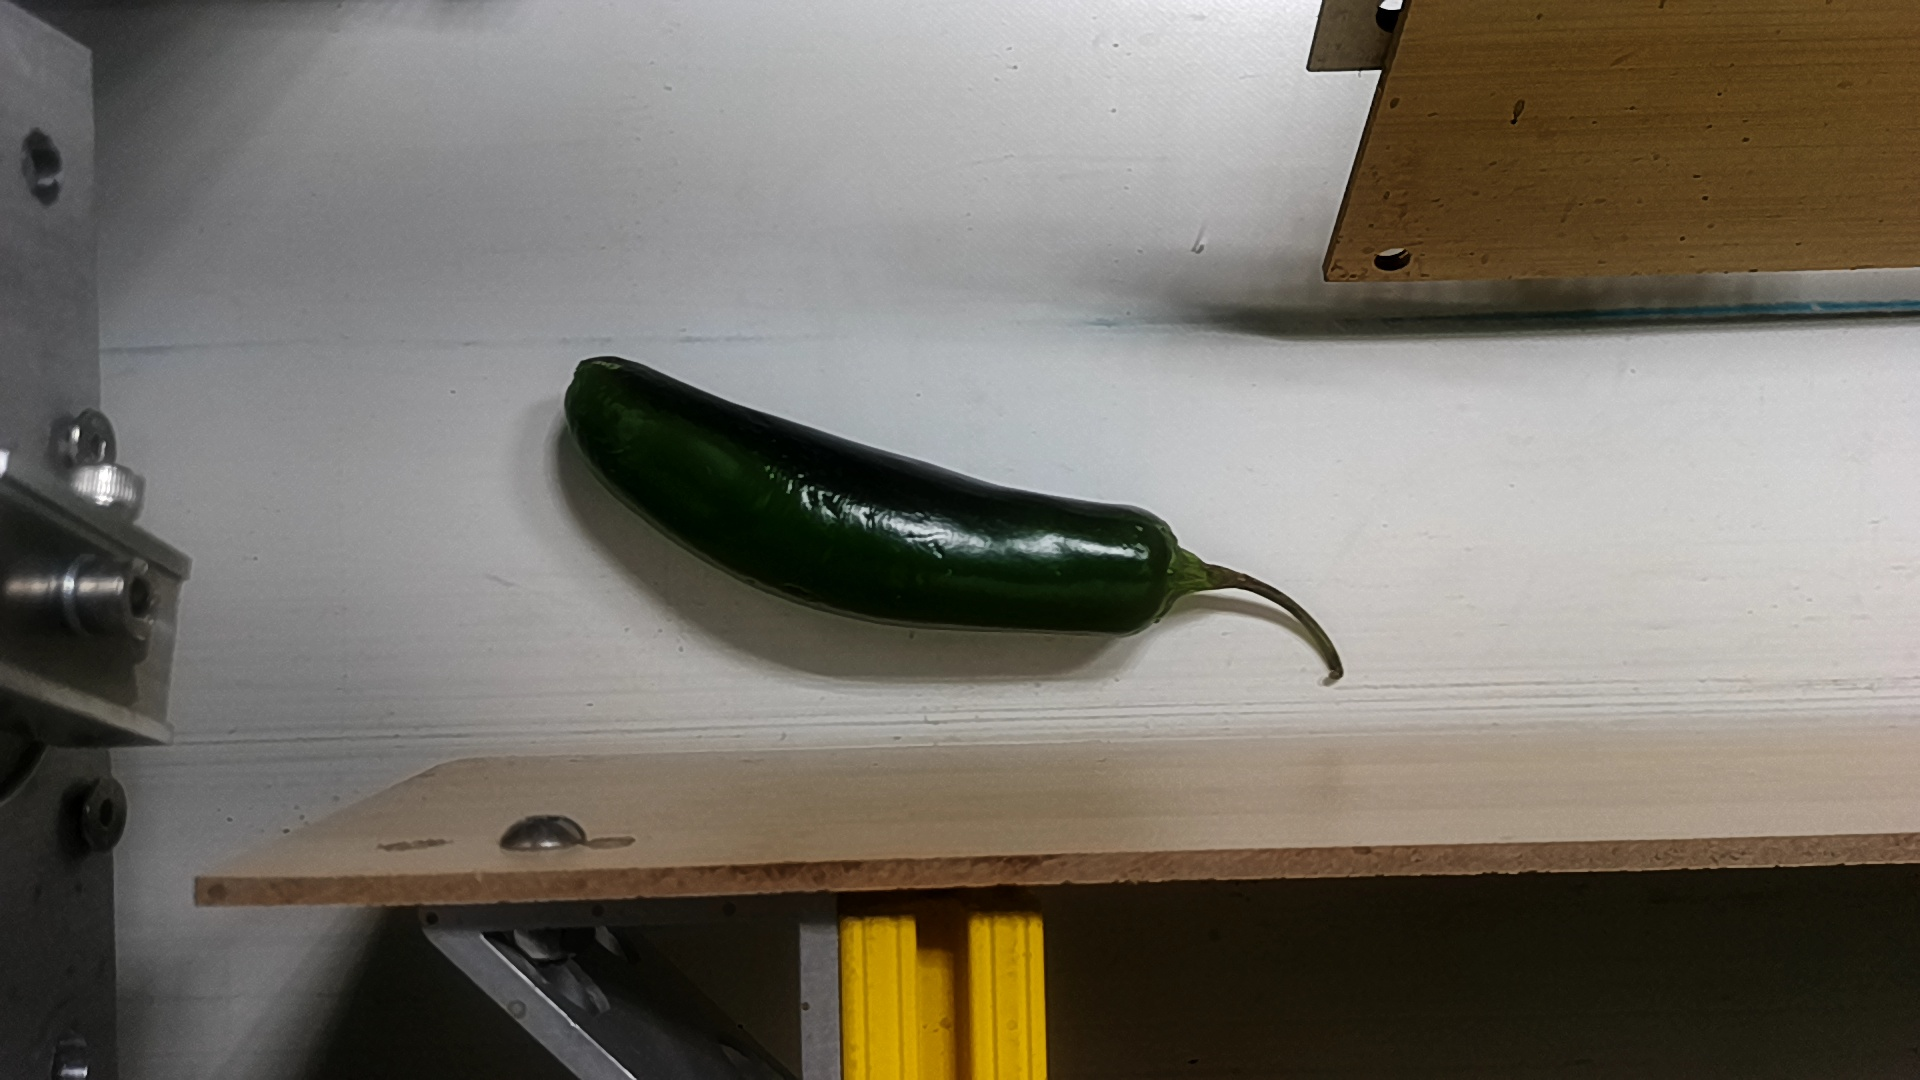Cut Point: (1088, 496, 1228, 646)
